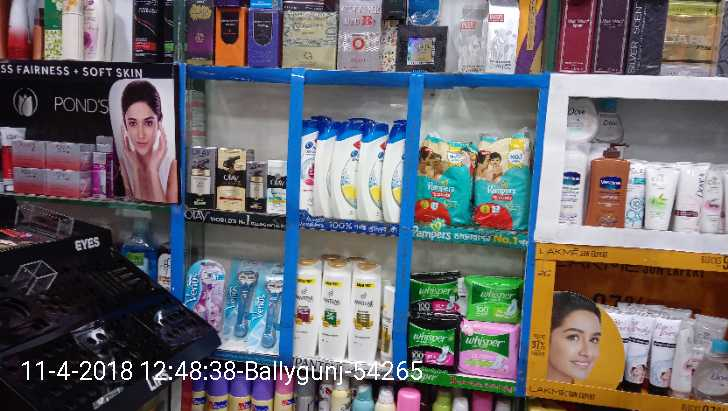venus: (252, 262, 282, 346), (188, 258, 221, 322), (229, 255, 250, 343)
